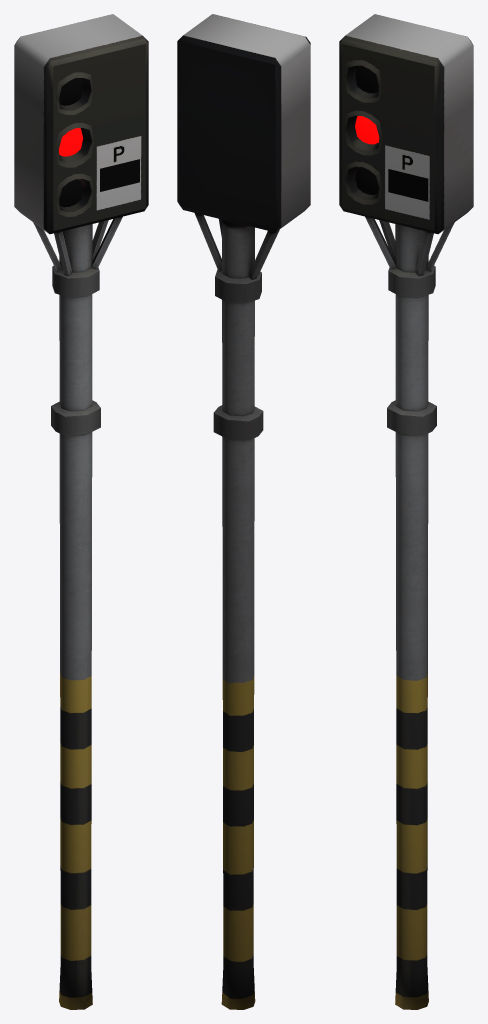
The model's file is SM_TrackLights_MainOnly.FBX.
The picture shows the model from 3 angles, left to right: view 1: azimuth 30°, elevation 25°; view 2: azimuth 150°, elevation 25°; view 3: azimuth 330°, elevation 25°; orthographic projection.
Visible parts, largest first — view 1: SM_TrackLights_MainOnly; view 2: SM_TrackLights_MainOnly; view 3: SM_TrackLights_MainOnly.
Boxes of the visible parts, x1=… form: SM_TrackLights_MainOnly: x1=14, y1=14, x2=148, y2=1009; SM_TrackLights_MainOnly: x1=177, y1=14, x2=310, y2=1009; SM_TrackLights_MainOnly: x1=339, y1=14, x2=473, y2=1009.
Bounding box in the file's own units: 29.41 × 17.83 × 260.
